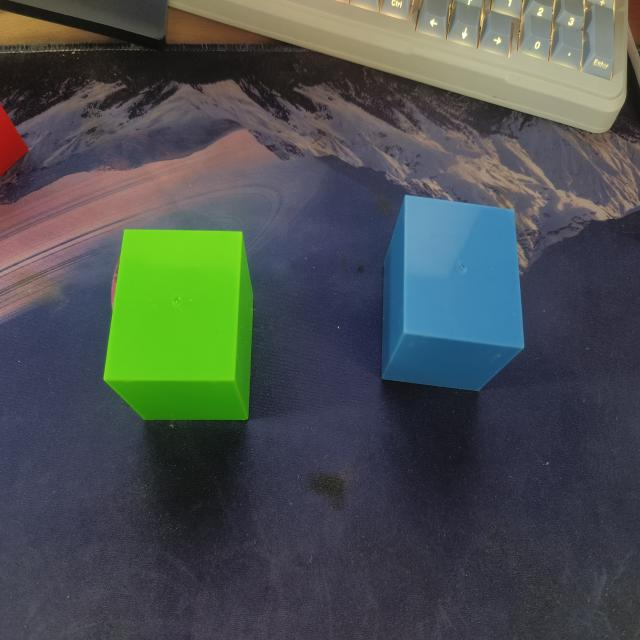blue: (380, 195, 531, 395)
green: (103, 227, 256, 423)
